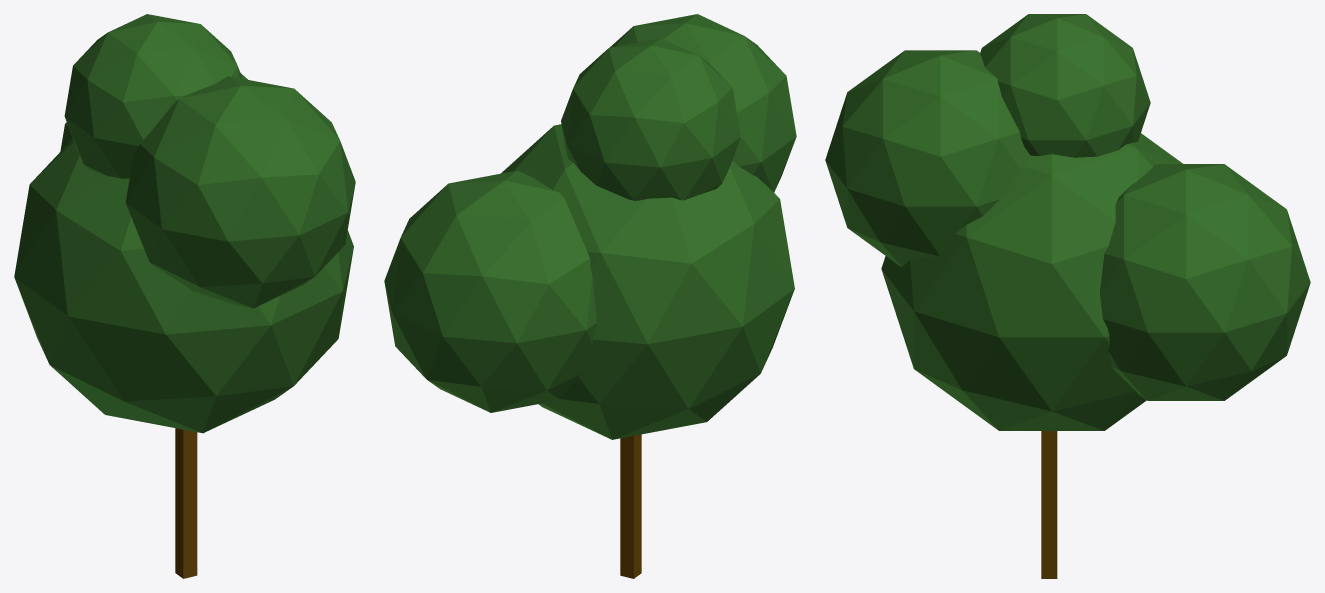
Rendered from arbol.obj.
3 views of the same model, side by side, from view 1: azimuth 30°, elevation 25°; view 2: azimuth 150°, elevation 25°; view 3: azimuth 270°, elevation 25° (orthographic). The views are drawn at different scales.
Parts seen in each view (by area): view 1: Icosphere_007; view 2: Icosphere_007; view 3: Icosphere_007.
Part boxes in pixels (x1,y1,x2,y2): Icosphere_007: [14, 14, 355, 578]; Icosphere_007: [384, 14, 796, 578]; Icosphere_007: [825, 14, 1310, 578].
Bounding box in the file's own units: 27.79 × 47.66 × 38.43.
Materials: 3 (2 with a texture image).
